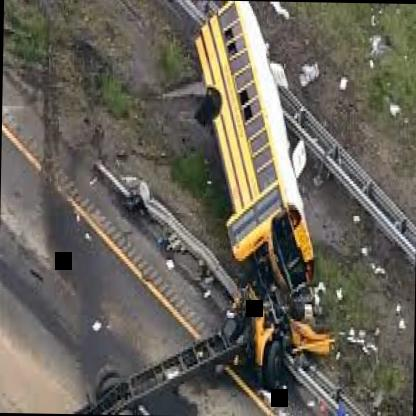accident: (154, 0, 382, 416)
